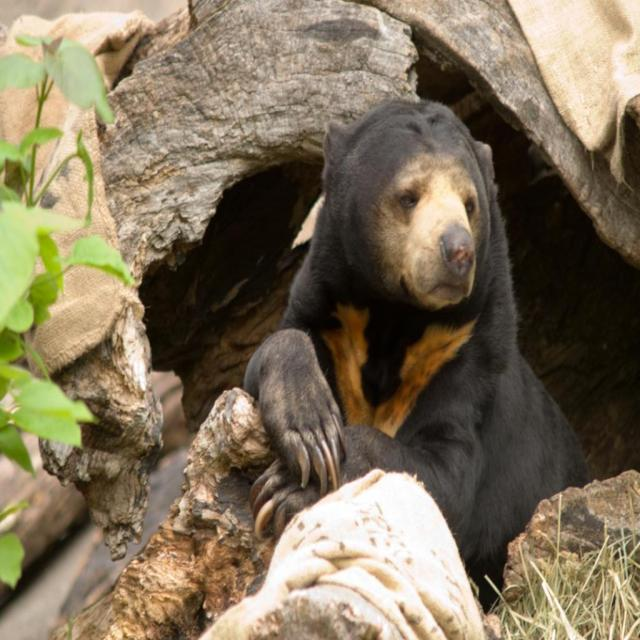Bear: (242, 100, 591, 617)
